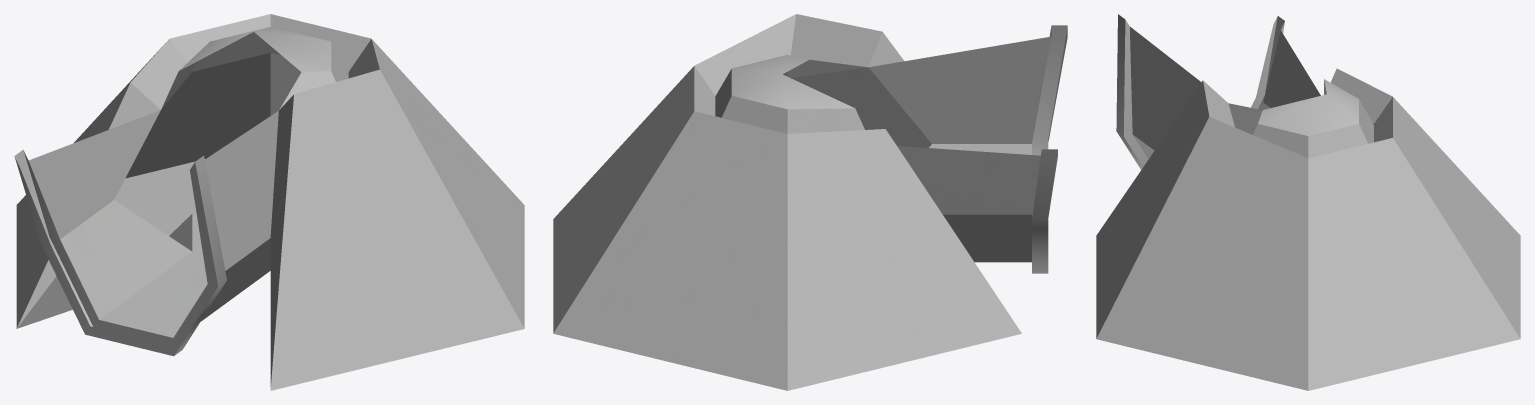
The model's file is Pipe_Cap_Broken.fbx.
3 views of the same model, side by side, from view 1: azimuth 30°, elevation 25°; view 2: azimuth 150°, elevation 25°; view 3: azimuth 270°, elevation 25° (orthographic). The views are drawn at different scales.
Parts seen in each view (by area): view 1: Pipe_Cap_Broken; view 2: Pipe_Cap_Broken; view 3: Pipe_Cap_Broken.
Part boxes in pixels (x1,y1,x2,y2): Pipe_Cap_Broken: (14,14,524,390); Pipe_Cap_Broken: (553,14,1067,390); Pipe_Cap_Broken: (1096,14,1520,390).
Bounding box in the file's own units: 2.16 × 0.9184 × 1.8.
